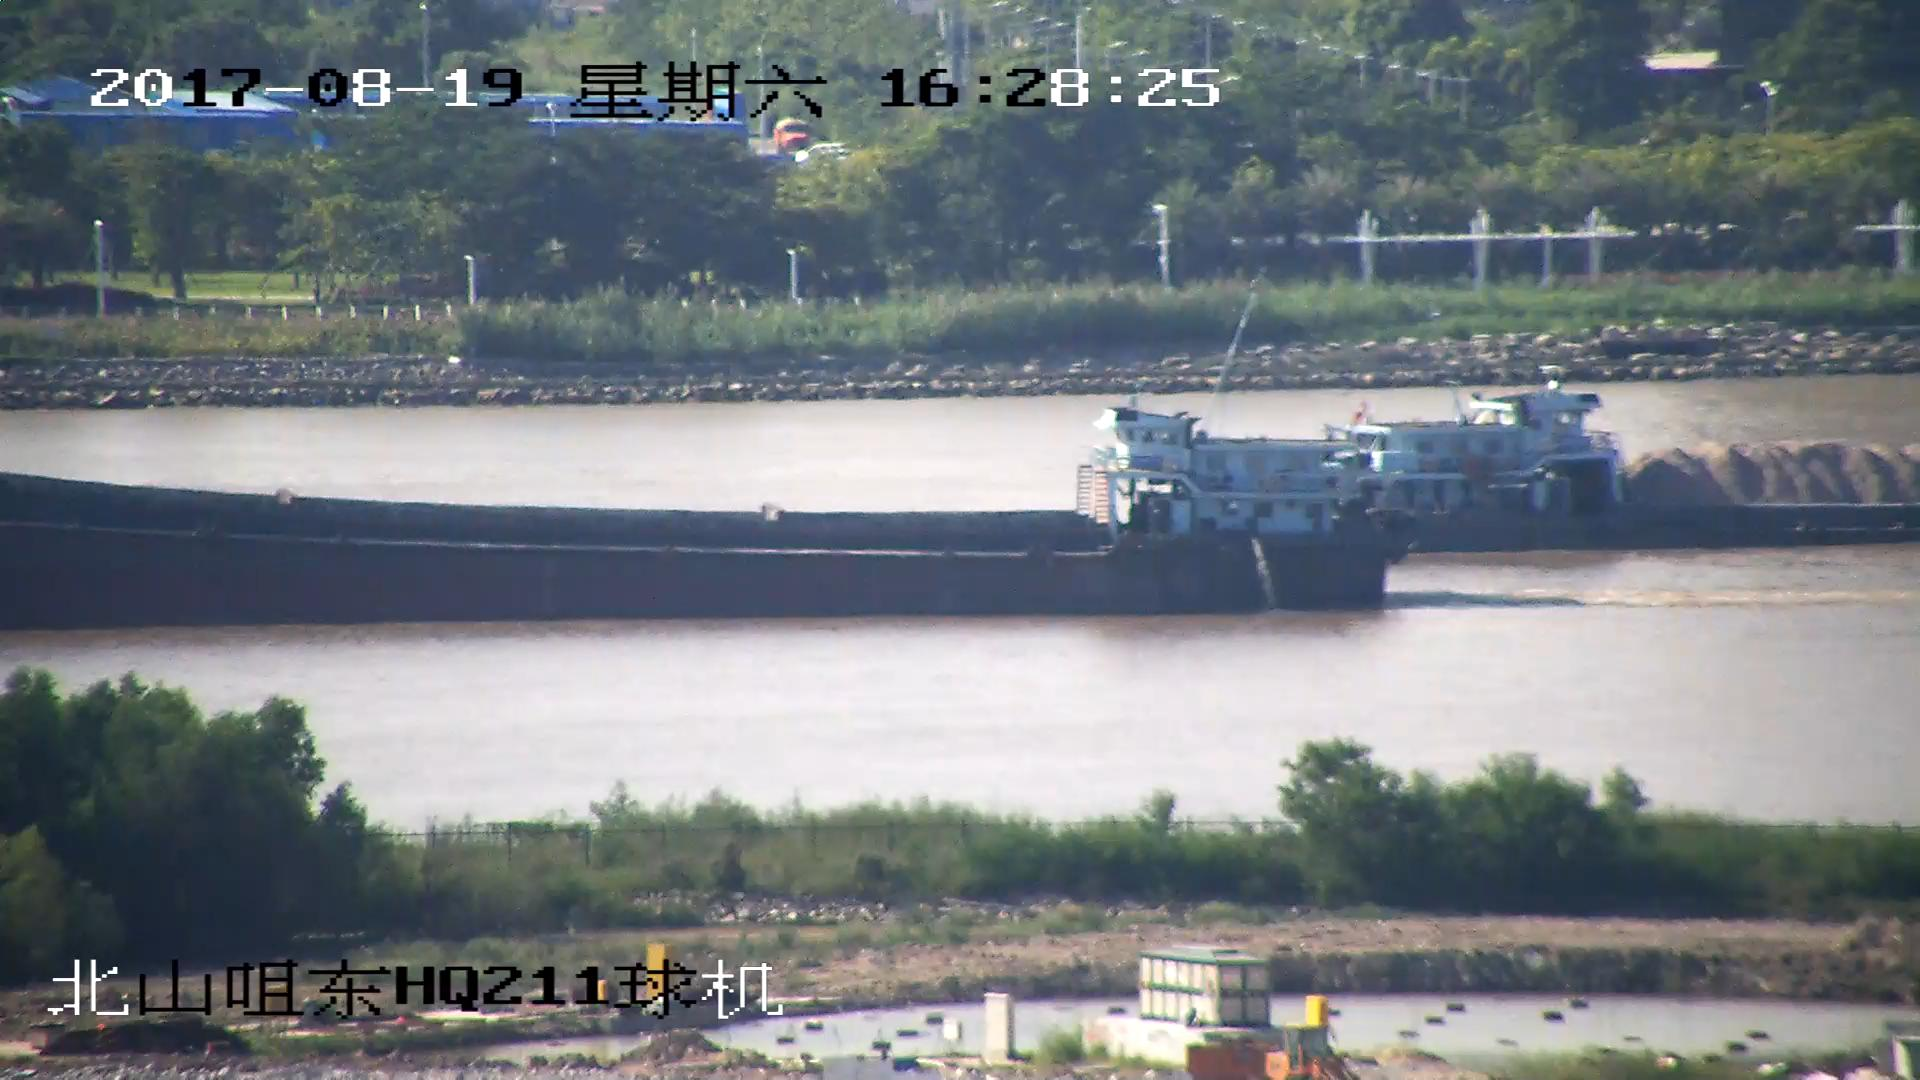bulk cargo carrier: (1, 406, 1401, 620)
ore carrier: (1340, 391, 1920, 547)
